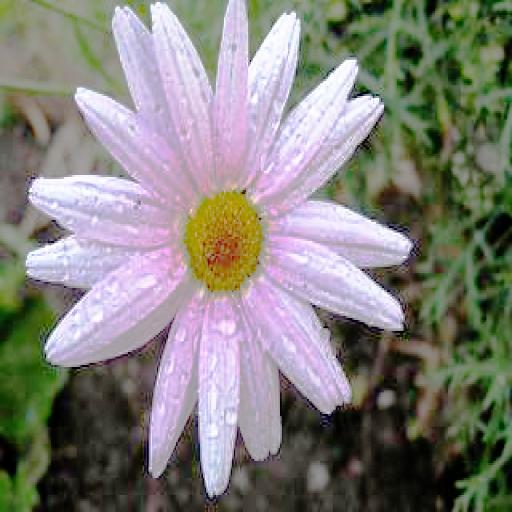daisy: (51, 26, 389, 450)
